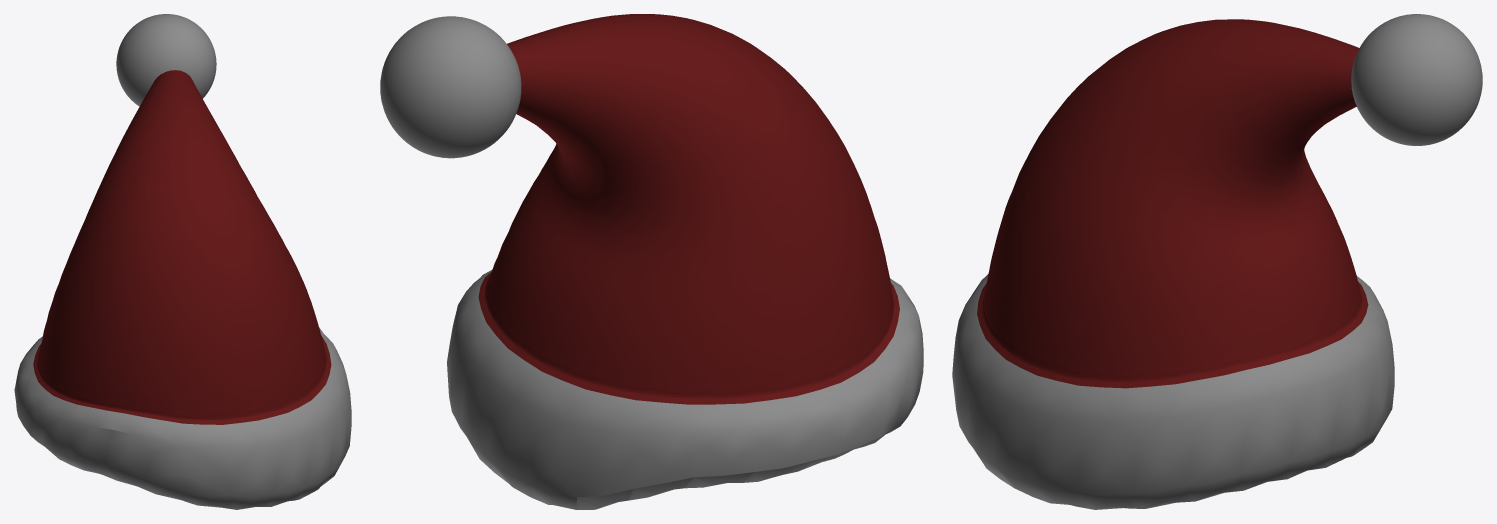
3 views of the same model, side by side, from view 1: azimuth 30°, elevation 25°; view 2: azimuth 150°, elevation 25°; view 3: azimuth 270°, elevation 25° (orthographic). The views are drawn at different scales.
Parts seen in each view (by area): view 1: hat_christmas, Sphere.004; view 2: hat_christmas, Sphere.004; view 3: hat_christmas, Sphere.004.
Boxes of the visible parts, <box> form: hat_christmas: <box>14,70,351,509</box>; Sphere.004: <box>116,14,216,106</box>; hat_christmas: <box>447,14,923,509</box>; Sphere.004: <box>380,16,521,158</box>; hat_christmas: <box>952,19,1394,509</box>; Sphere.004: <box>1351,14,1482,145</box>.
Bounding box in the file's own units: 25.9 × 30.68 × 30.05.
